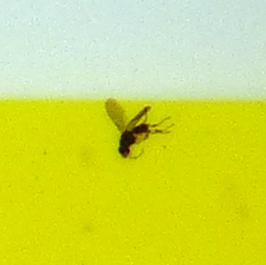Hymenoptera: (100, 100, 166, 165)
